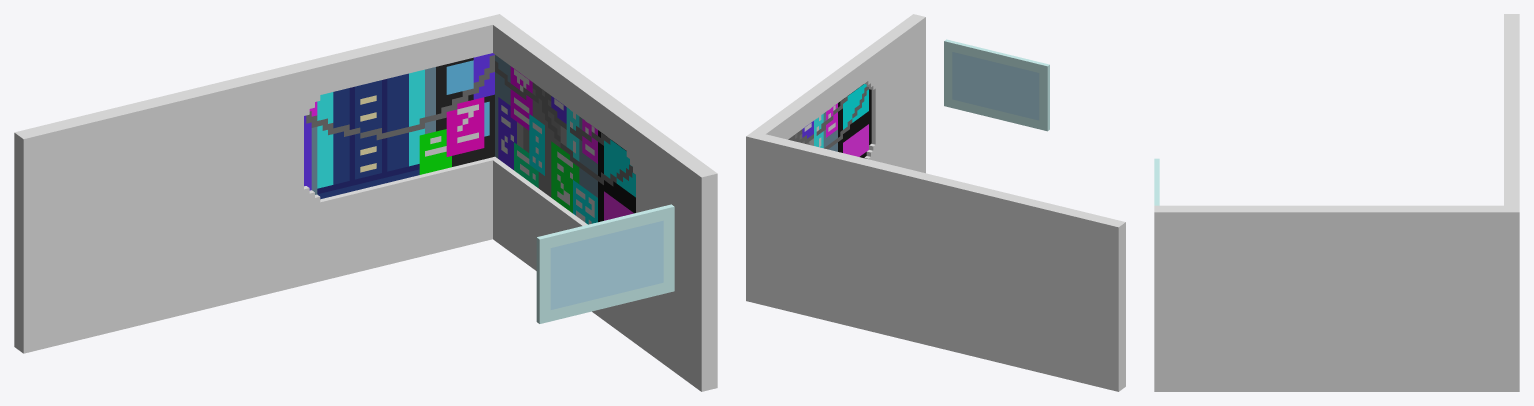
The model's file is old peopl's room-4.obj.
3 renders of one model, left to right at view 1: azimuth 30°, elevation 25°; view 2: azimuth 150°, elevation 25°; view 3: azimuth 270°, elevation 25°, orthographic. The views are drawn at different scales.
Bounding box in the file's own units: 9 × 3.8 × 7.
Materials: 1 (1 with a texture image).
